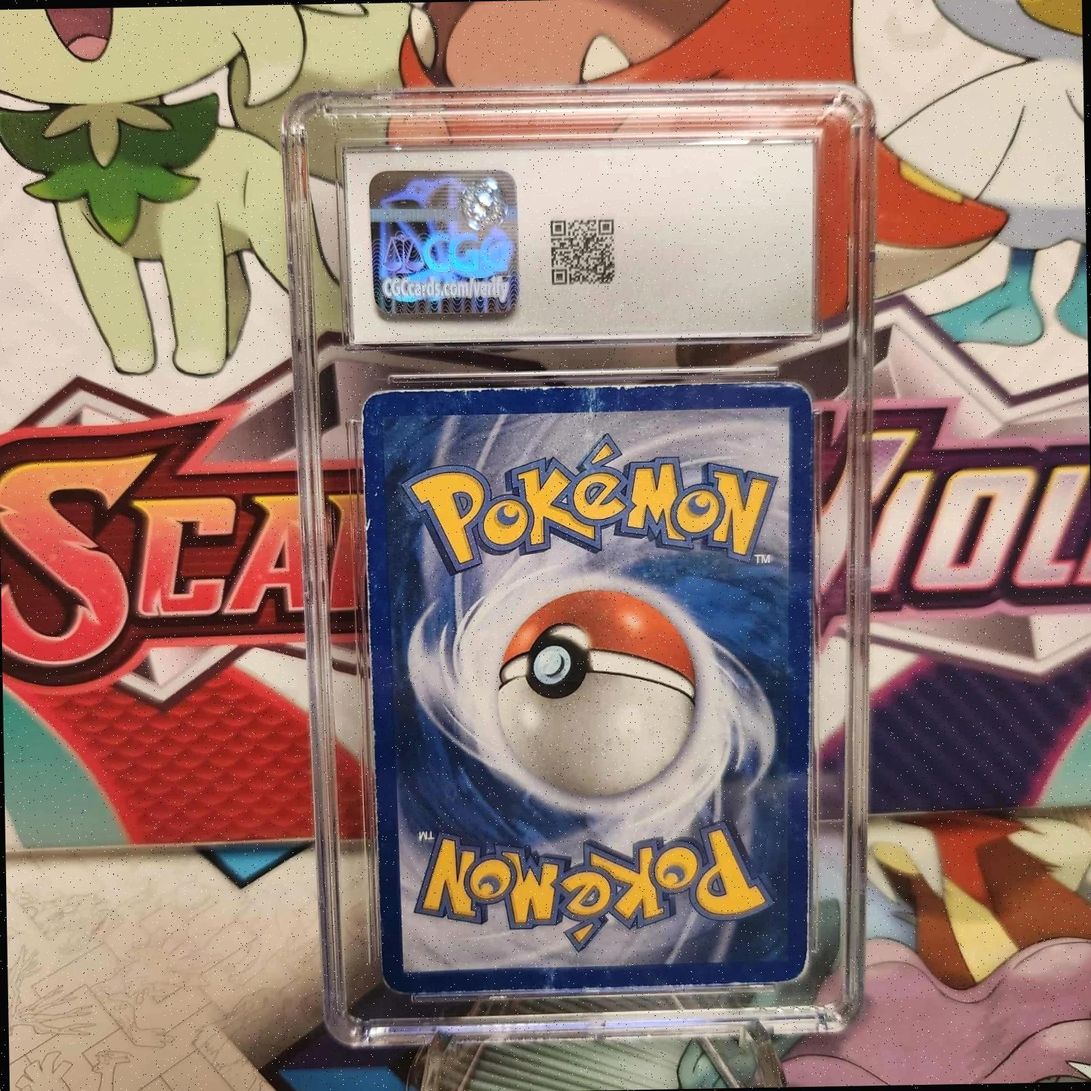card-2UtV: (361, 381, 813, 994)
